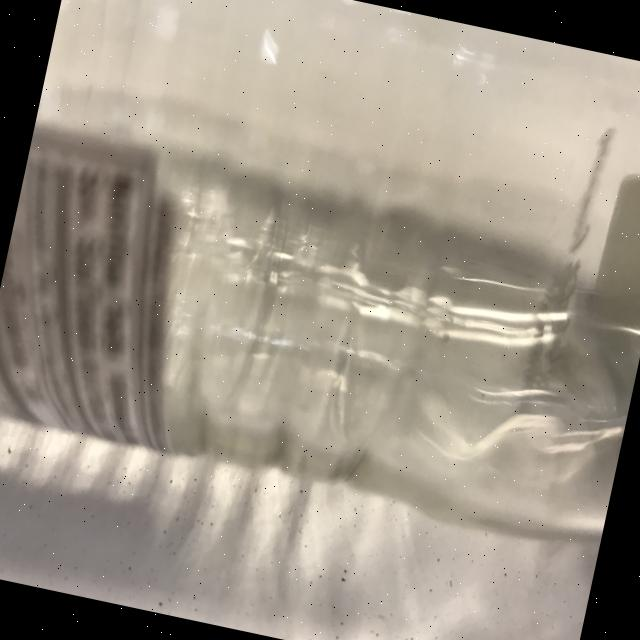plastic: (0, 0, 640, 556)
